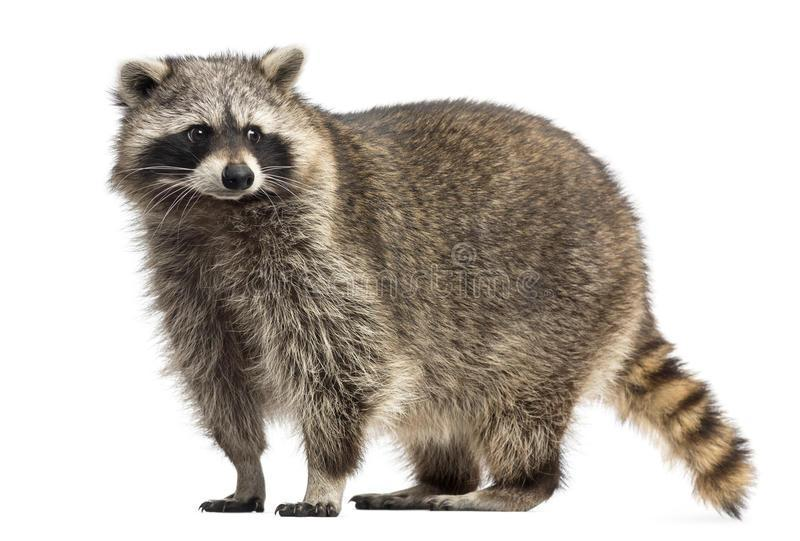raccoon: (107, 42, 751, 518)
